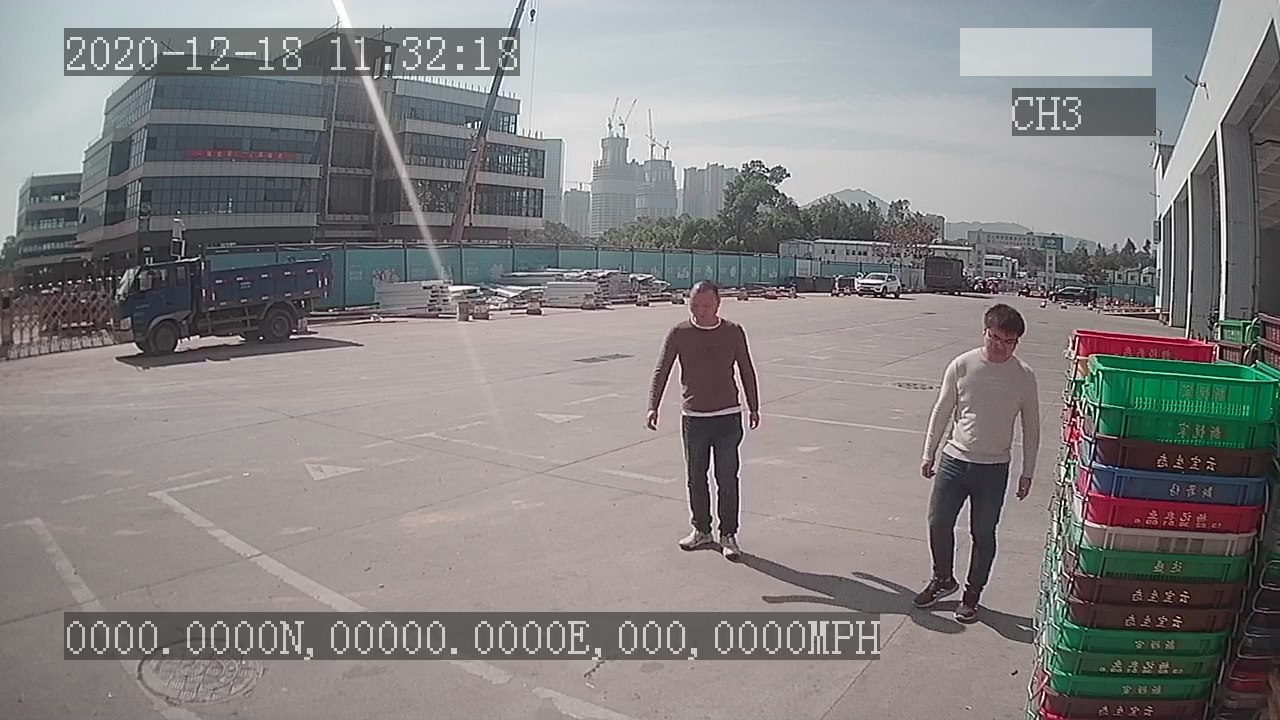person: (910, 295, 1037, 634), (644, 276, 763, 560)
